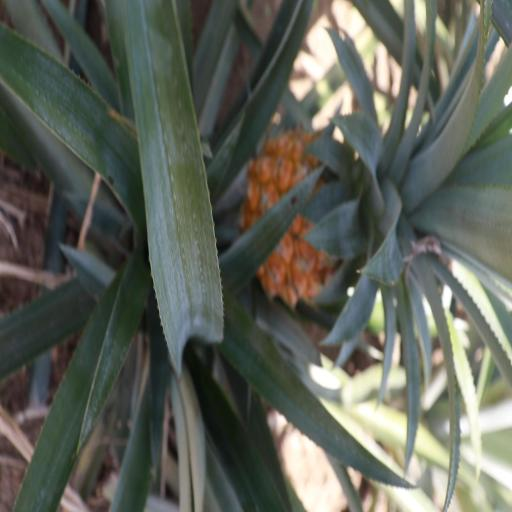Pineapple - v8 v1: (247, 111, 512, 292)
